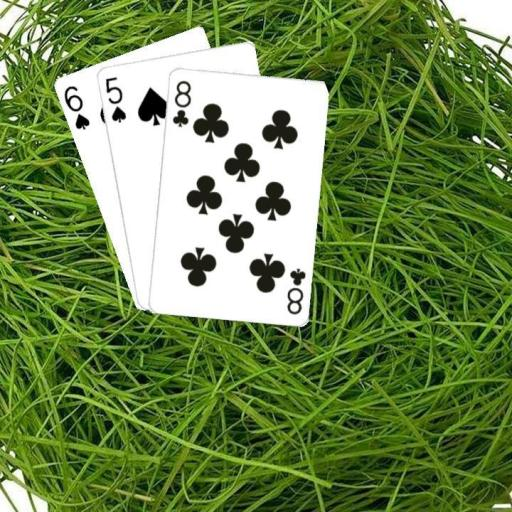5S: (102, 73, 127, 124)
6S: (60, 82, 91, 132)
8C: (169, 77, 193, 128), (283, 265, 307, 316)
